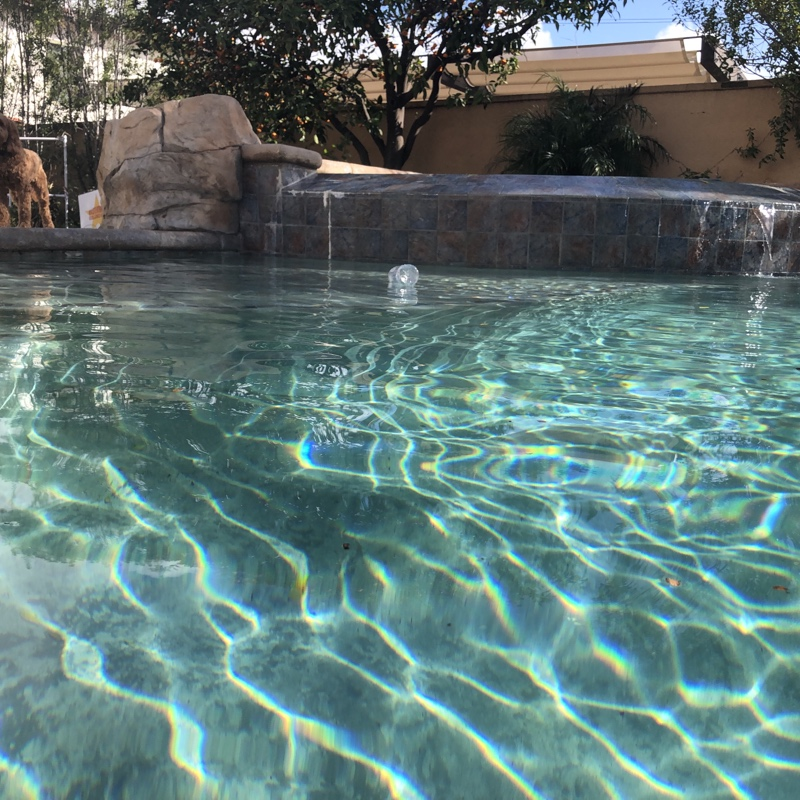Plastic Bottle: (383, 263, 422, 292)
